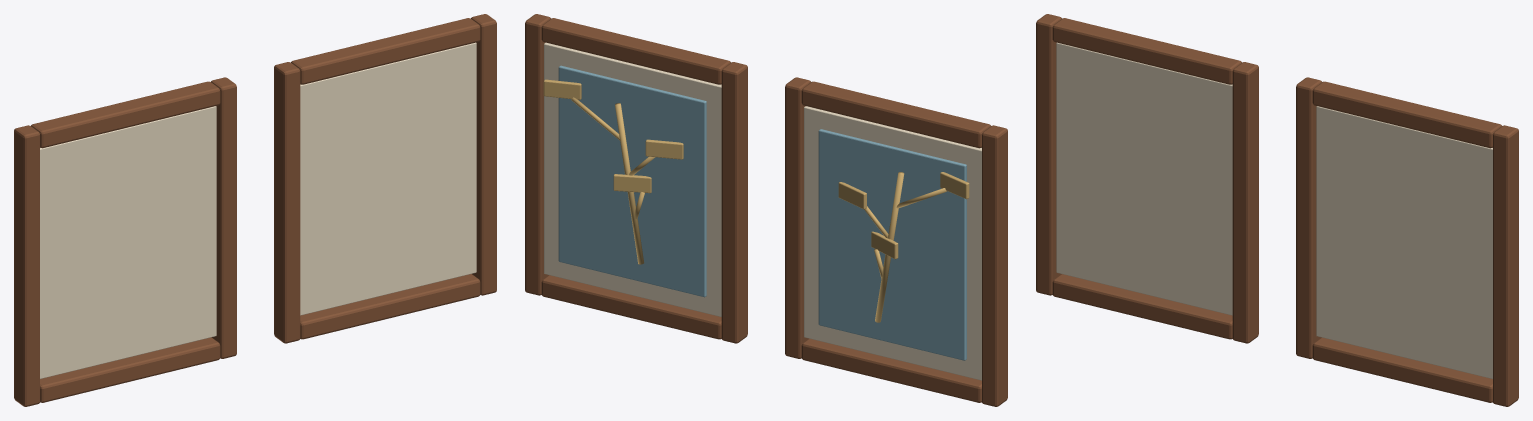
The model's file is living_wall_art_pair.glb.
3 views of the same model, side by side, from view 1: azimuth 30°, elevation 25°; view 2: azimuth 150°, elevation 25°; view 3: azimuth 330°, elevation 25° (orthographic).
Parts seen in each view (by area): view 1: living_dressing_art_014_mat_1, living_dressing_art_001_mat_-1, living_dressing_art_016_frame_vertical_1_-1, living_dressing_art_003_frame_vertical_-1_-1, living_dressing_art_018_frame_vertical_1_1, living_dressing_art_005_frame_vertical_-1_1, living_dressing_art_019_frame_horizontal_1_1, living_dressing_art_006_frame_horizontal_-1_1, living_dressing_art_017_frame_horizontal_1_-1, living_dressing_art_004_frame_horizontal_-1_-1; view 2: living_dressing_art_002_canvas_-1, living_dressing_art_015_canvas_1, living_dressing_art_001_mat_-1, living_dressing_art_014_mat_1, living_dressing_art_016_frame_vertical_1_-1, living_dressing_art_003_frame_vertical_-1_-1, living_dressing_art_005_frame_vertical_-1_1, living_dressing_art_018_frame_vertical_1_1, living_dressing_art_019_frame_horizontal_1_1, living_dressing_art_006_frame_horizontal_-1_1, living_dressing_art_004_frame_horizontal_-1_-1, living_dressing_art_017_frame_horizontal_1_-1 (+8 smaller); view 3: living_dressing_art_001_mat_-1, living_dressing_art_014_mat_1, living_dressing_art_005_frame_vertical_-1_1, living_dressing_art_018_frame_vertical_1_1, living_dressing_art_003_frame_vertical_-1_-1, living_dressing_art_016_frame_vertical_1_-1, living_dressing_art_006_frame_horizontal_-1_1, living_dressing_art_019_frame_horizontal_1_1, living_dressing_art_004_frame_horizontal_-1_-1, living_dressing_art_017_frame_horizontal_1_-1.
Part boxes in pixels (box(x1,y1,x2,y2)): living_dressing_art_014_mat_1: box(300, 42, 476, 315); living_dressing_art_001_mat_-1: box(40, 106, 216, 378); living_dressing_art_016_frame_vertical_1_-1: box(274, 62, 300, 343); living_dressing_art_003_frame_vertical_-1_-1: box(14, 125, 39, 406); living_dressing_art_018_frame_vertical_1_1: box(471, 14, 496, 295); living_dressing_art_005_frame_vertical_-1_1: box(211, 77, 236, 358); living_dressing_art_019_frame_horizontal_1_1: box(291, 18, 480, 84); living_dressing_art_006_frame_horizontal_-1_1: box(31, 81, 220, 148); living_dressing_art_017_frame_horizontal_1_-1: box(300, 274, 480, 339); living_dressing_art_004_frame_horizontal_-1_-1: box(40, 337, 220, 402); living_dressing_art_002_canvas_-1: box(818, 129, 966, 360); living_dressing_art_015_canvas_1: box(558, 65, 706, 297); living_dressing_art_001_mat_-1: box(804, 106, 981, 380); living_dressing_art_014_mat_1: box(544, 42, 721, 316); living_dressing_art_016_frame_vertical_1_-1: box(721, 62, 747, 343); living_dressing_art_003_frame_vertical_-1_-1: box(982, 125, 1007, 406); living_dressing_art_005_frame_vertical_-1_1: box(785, 77, 810, 358); living_dressing_art_018_frame_vertical_1_1: box(525, 14, 550, 295); living_dressing_art_019_frame_horizontal_1_1: box(541, 18, 730, 84); living_dressing_art_006_frame_horizontal_-1_1: box(801, 81, 990, 148); living_dressing_art_004_frame_horizontal_-1_-1: box(801, 338, 981, 402); living_dressing_art_017_frame_horizontal_1_-1: box(541, 275, 721, 339); living_dressing_art_001_mat_-1: box(1056, 42, 1232, 315); living_dressing_art_014_mat_1: box(1316, 106, 1492, 378); living_dressing_art_005_frame_vertical_-1_1: box(1232, 62, 1258, 343); living_dressing_art_018_frame_vertical_1_1: box(1493, 125, 1518, 406); living_dressing_art_003_frame_vertical_-1_-1: box(1036, 14, 1061, 295); living_dressing_art_016_frame_vertical_1_-1: box(1296, 77, 1321, 358); living_dressing_art_006_frame_horizontal_-1_1: box(1052, 18, 1241, 84); living_dressing_art_019_frame_horizontal_1_1: box(1312, 81, 1501, 148); living_dressing_art_004_frame_horizontal_-1_-1: box(1052, 274, 1232, 339); living_dressing_art_017_frame_horizontal_1_-1: box(1312, 337, 1492, 402).
Size of the model in its own units: 1.42 by 0.78 by 0.0927.
